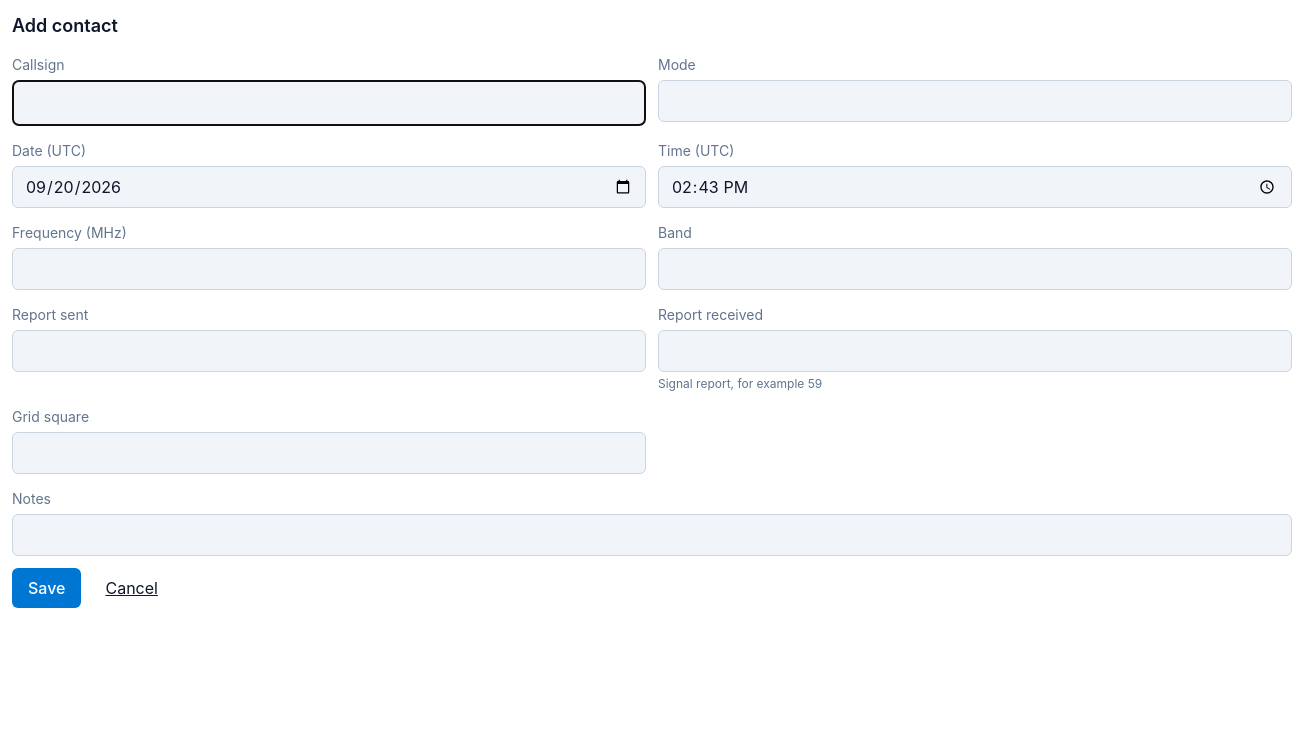
Test: QsoForm › asks for the report the mode actually uses
Type "SSB" into the field labelled "Mode" at (975, 101), box [658, 80, 1292, 122]
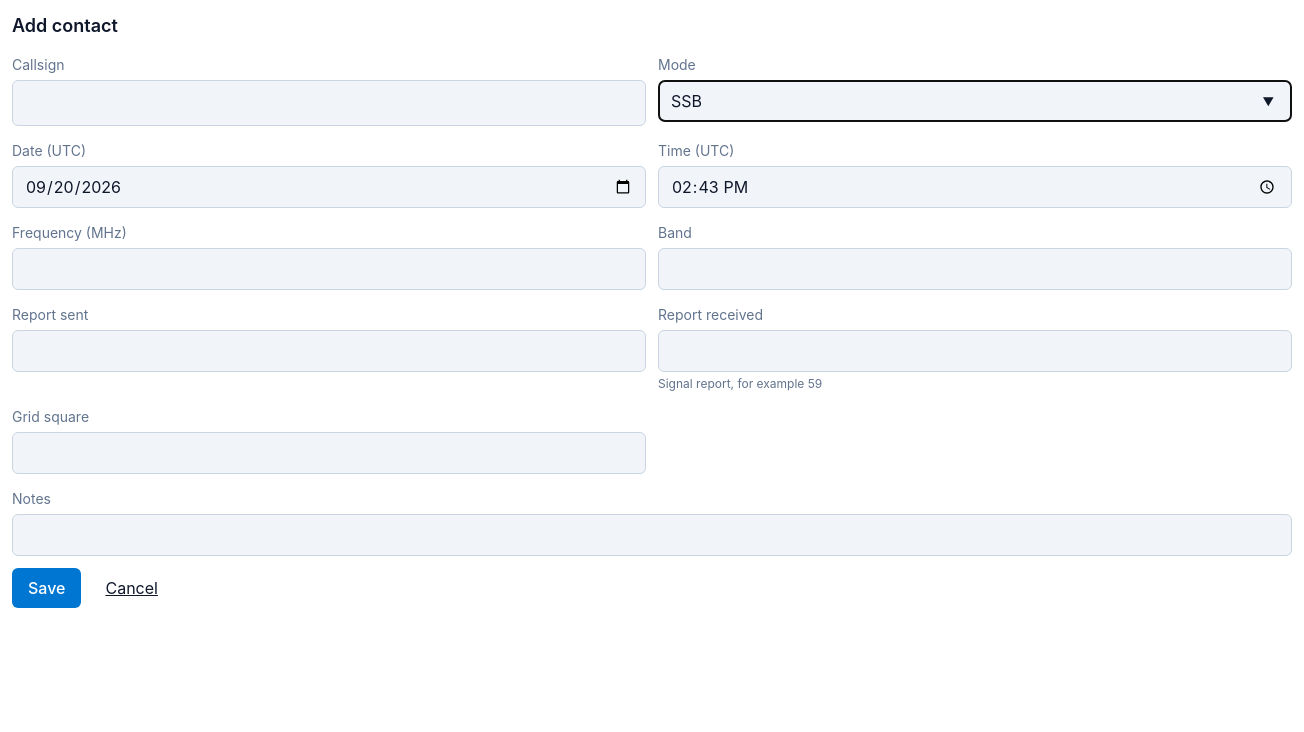
Expected: the text "Signal report, for example 59" is shown, [658, 376, 822, 391]
Replace the text in the field labelled "Mode" with "FT8" at (975, 101), box [658, 80, 1292, 122]
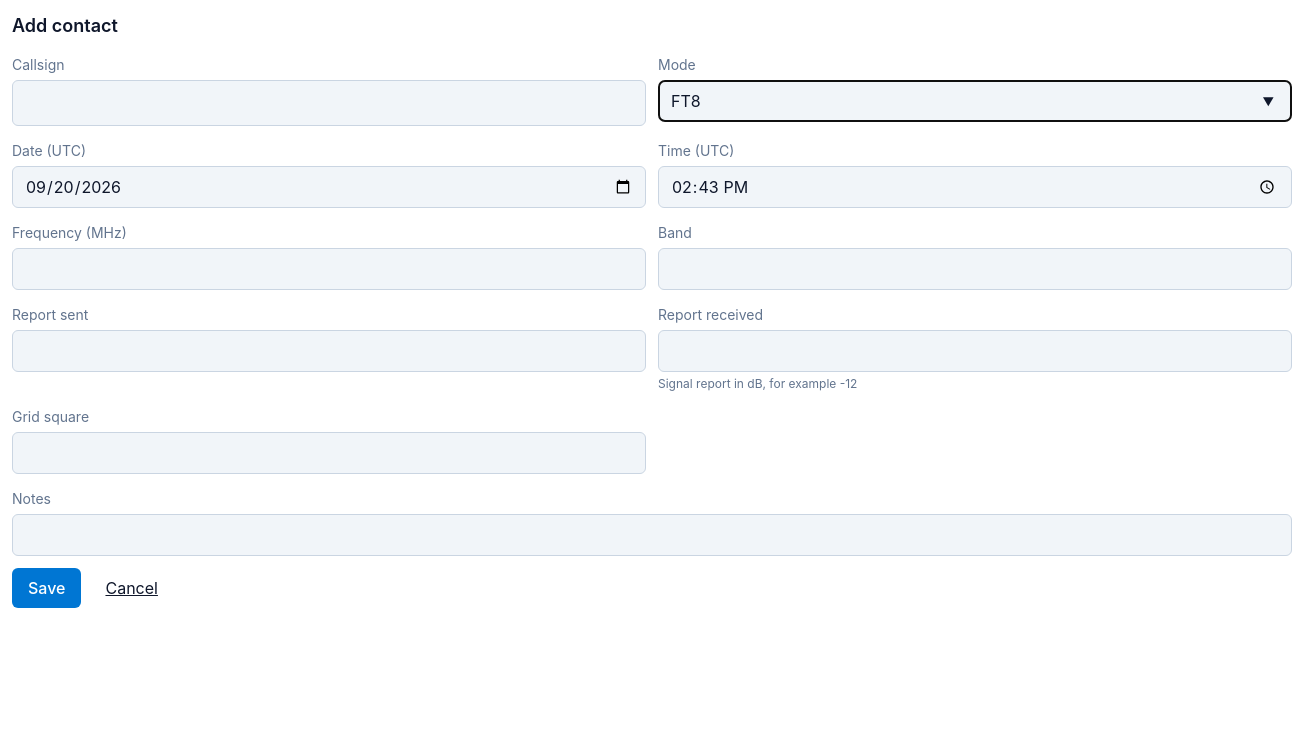
Expected: the text "Signal report in dB, for example -12" is shown, [658, 376, 857, 391]
